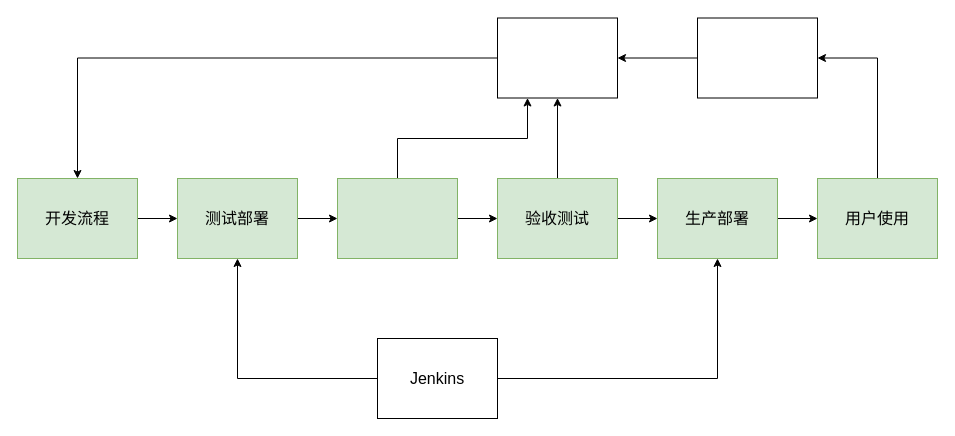
This 955x436 diagram has some shape labels left out. Here are the shapes that lost their labels. From the top down, the box of each, then its label:
(496, 17, 618, 98): 问题追踪系统
(696, 17, 818, 98): BUG报告
(336, 178, 458, 258): 自动测试
